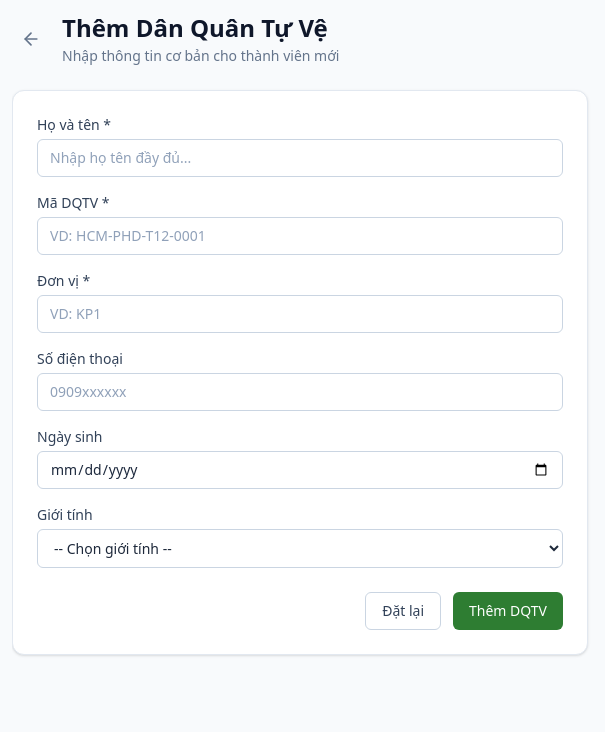
Test: MilitiaCreateForm › validation › shows required errors when submitting empty form
Click the button with test id "submit-btn": (508, 611) [453,592,563,630]
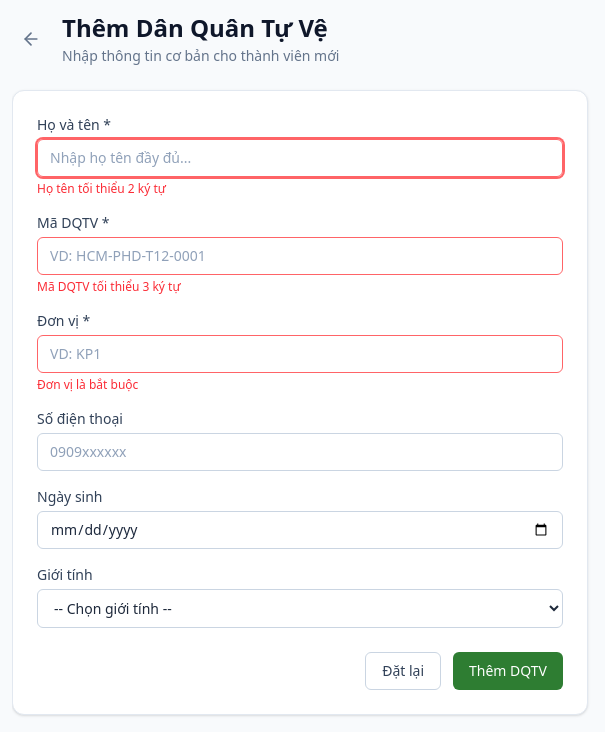
Check: the text "Họ tên tối thiểu 2 ký tự" is shown, box [37,180,166,197]
